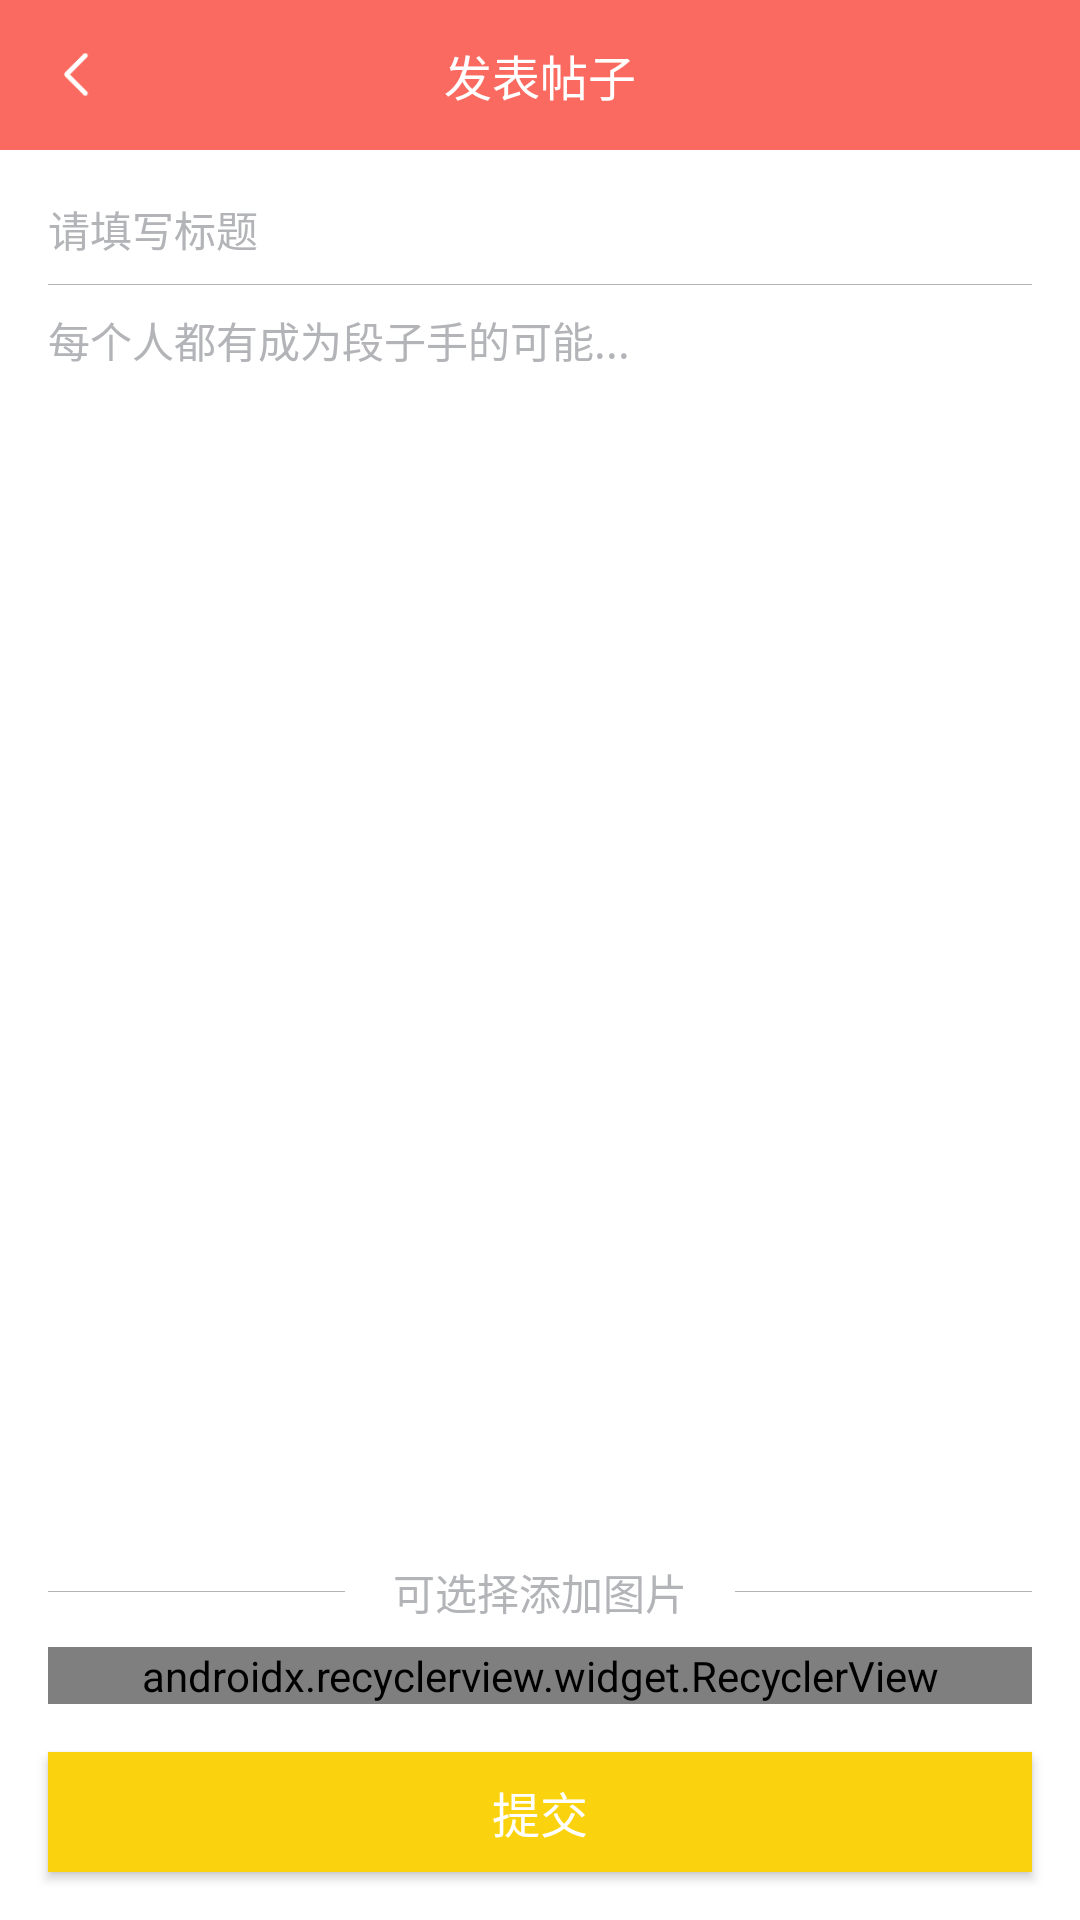

Icon bounding boxes for this 1080 x 1920 phone screenshot, format BBox(x1, y1, x2, y2):
back: BBox(64, 53, 88, 96)
